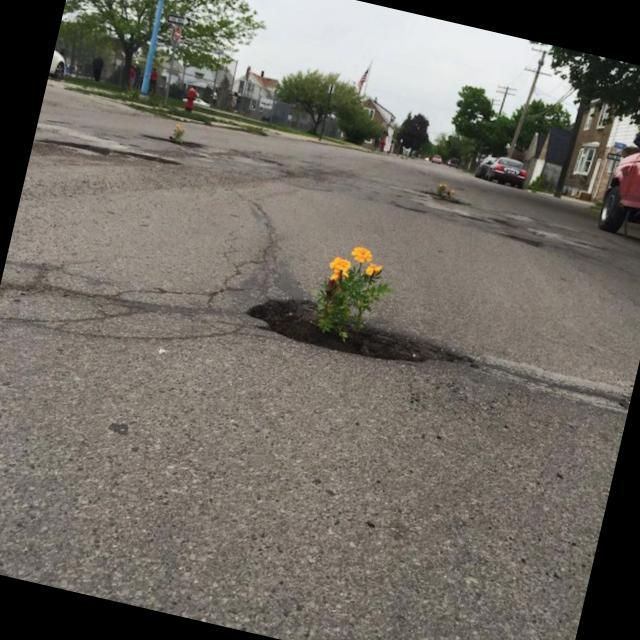Pothole: (188, 236, 495, 402), (30, 120, 254, 232), (478, 221, 602, 277), (112, 121, 228, 159), (400, 180, 503, 213)
